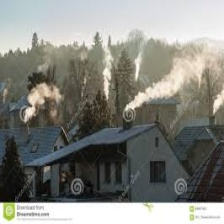smoke: (124, 55, 203, 110), (20, 81, 63, 122), (99, 49, 113, 104)
